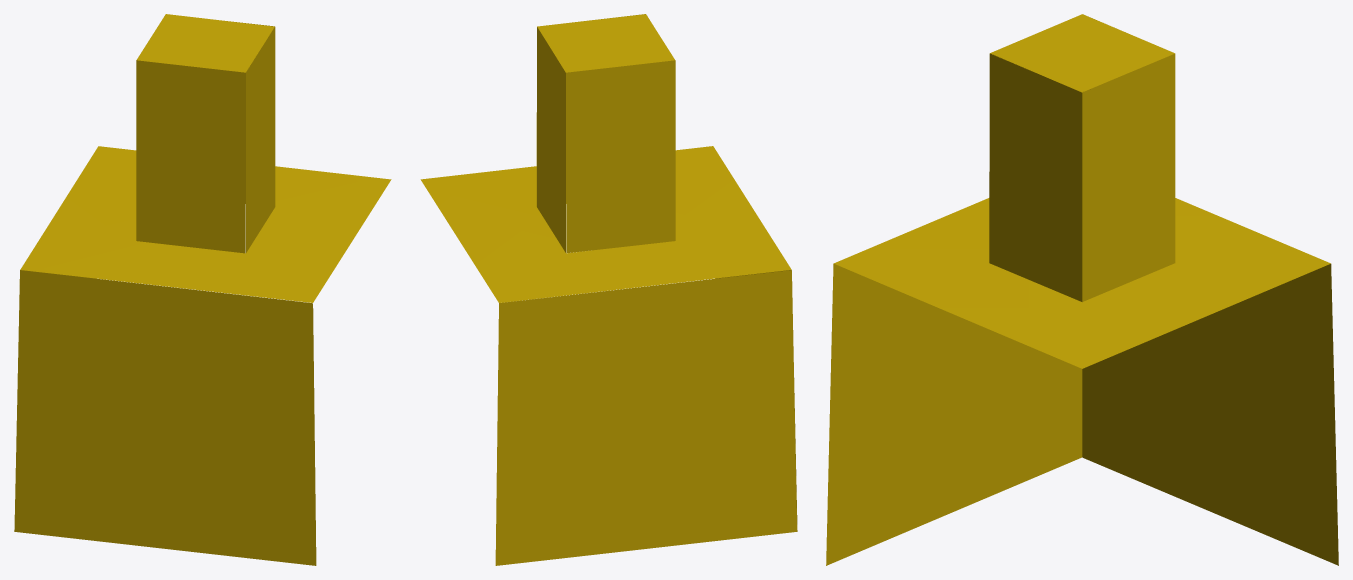
Rendered from original_2.obj.
3 views of the same model, side by side, from view 1: azimuth 30°, elevation 25°; view 2: azimuth 150°, elevation 25°; view 3: azimuth 270°, elevation 25° (orthographic). The views are drawn at different scales.
Parts seen in each view (by area): view 1: #ID18; view 2: #ID18; view 3: #ID18.
Boxes of the visible parts, x1,y1,x2,y2 form: #ID18: (14,14,391,565); #ID18: (420,14,797,565); #ID18: (826,14,1338,565).
Bounding box in the file's own units: 0.3222 × 0.3608 × 0.3269.
